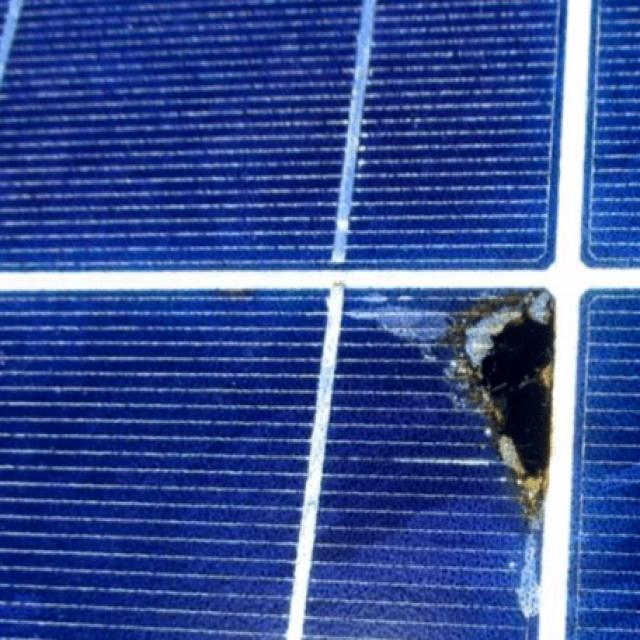shadow: (374, 264, 604, 630)
